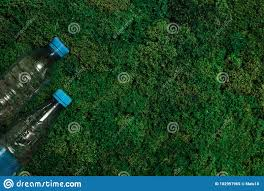plastic_bottle: (1, 89, 71, 177), (1, 35, 70, 124)
